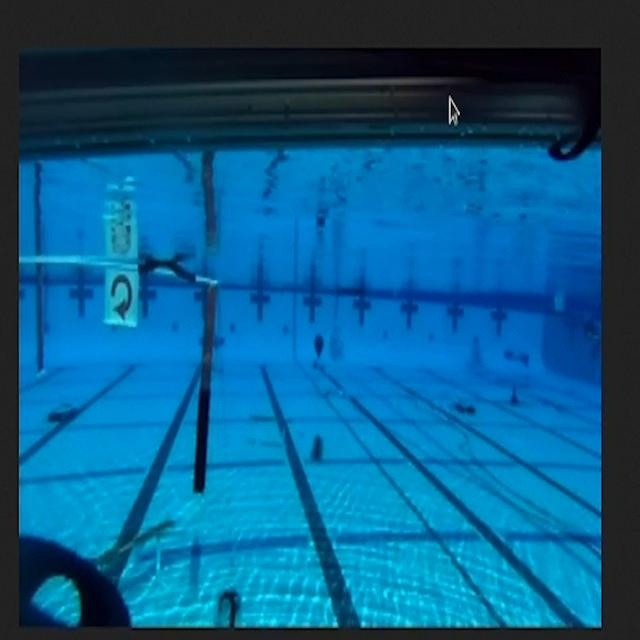Gate: (19, 244, 224, 510)
Path: (61, 516, 179, 574)
